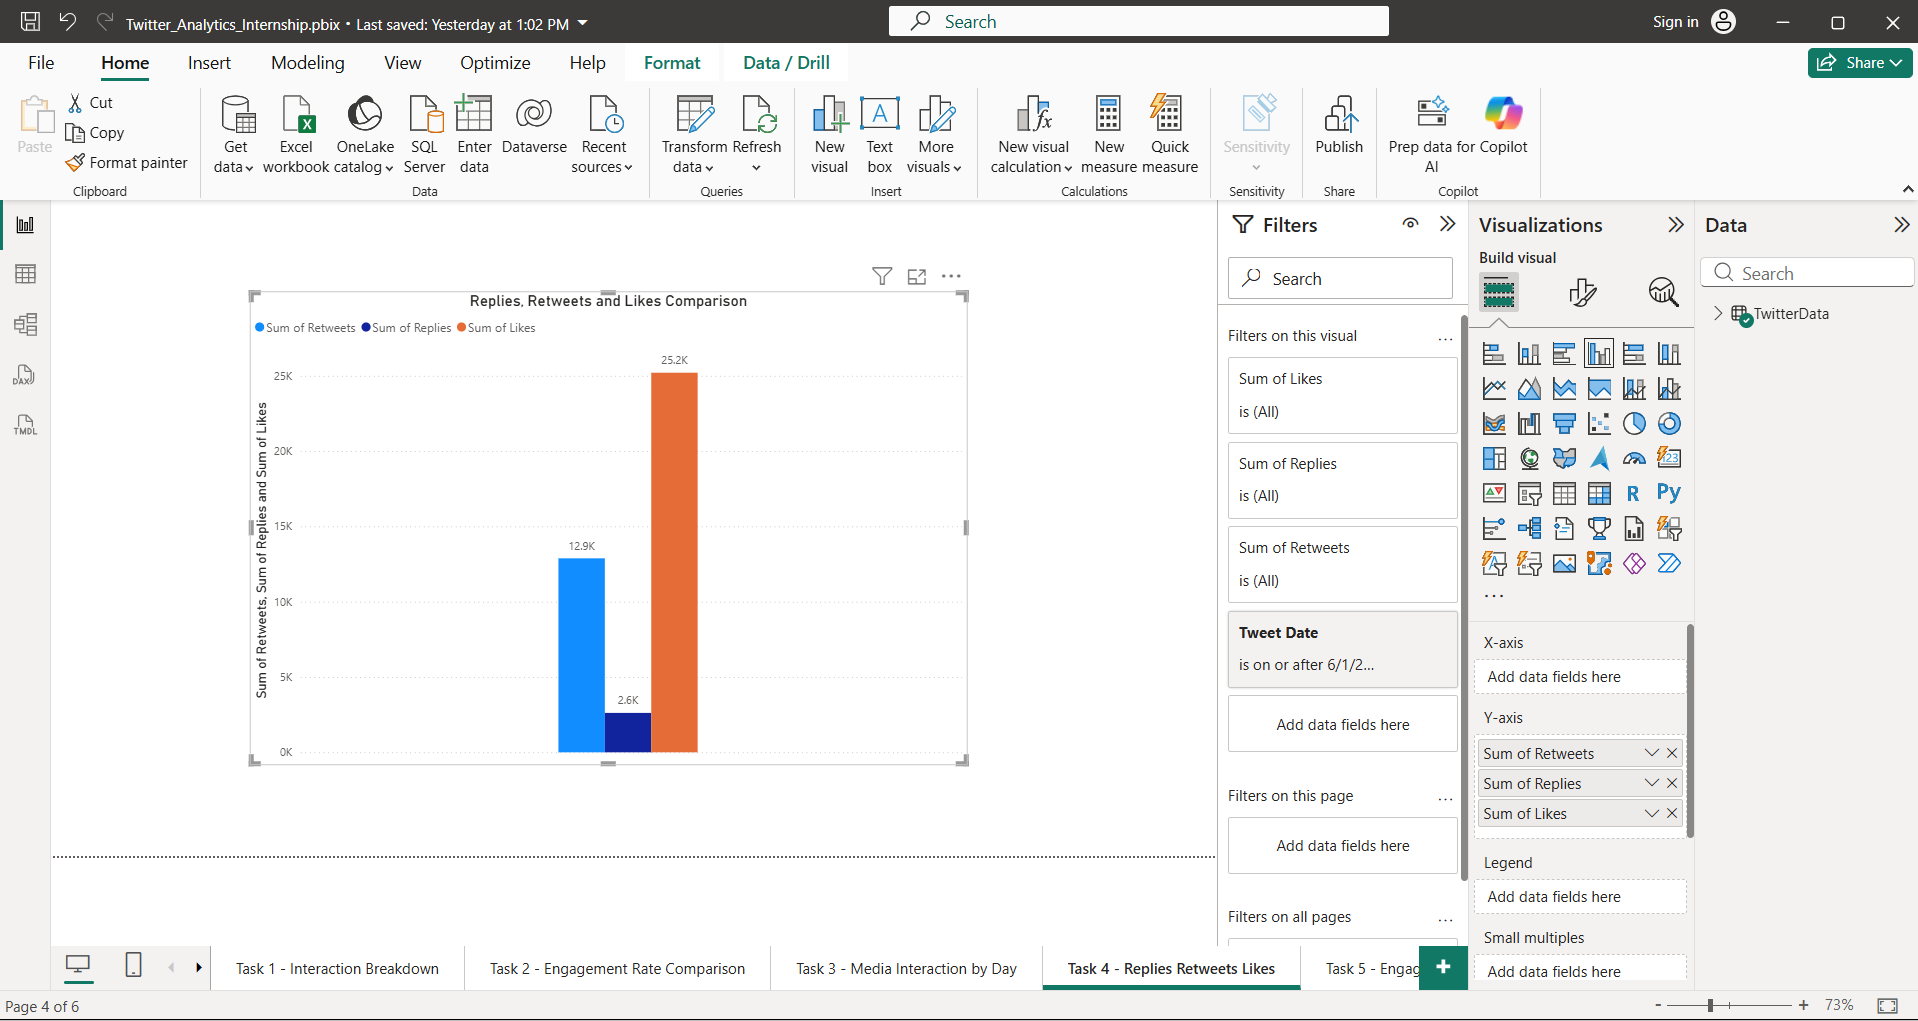

This screenshot's page, from the dashboard's own definition file:
{"tool":"powerbi","page":{"name":"Task 4 - Replies Retweets Likes","canvas":[1280,720],"ordinal":3},"visuals":[{"type":"clusteredColumnChart","title":"Replies, Retweets and Likes Comparison","fields":{"Y":["Sum(TwitterData.Retweets)","Sum(TwitterData.Replies)","Sum(TwitterData.Likes)"]},"box":[105.6,47.8,787.8,520],"z":0}]}

Visuals, with their boxes on the page's 1280x720 design canvas (x1, y1, x2, y2). These are canvas units, not pixel positions in the 1918x1021 screenshot, which may show the page scaled, cropped or inside an application window:
"Replies, Retweets and Likes Comparison" clusteredColumnChart: [106,48,893,568]
